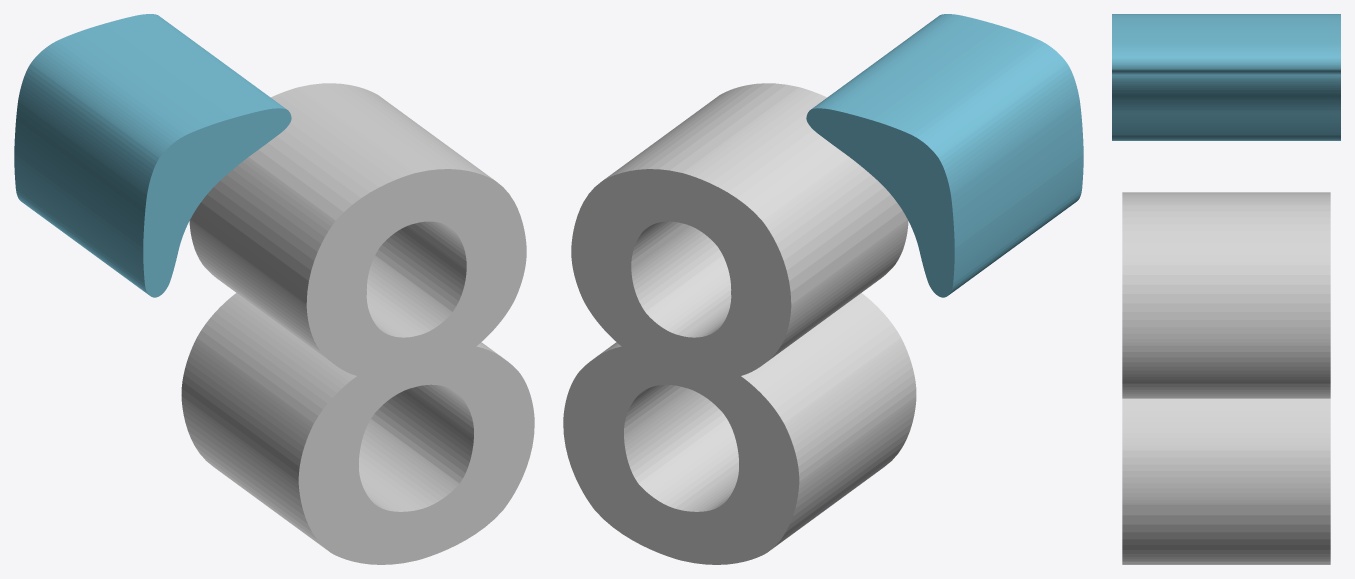
The picture shows the model from 3 angles, left to right: view 1: azimuth 30°, elevation 25°; view 2: azimuth 150°, elevation 25°; view 3: azimuth 270°, elevation 25°; orthographic projection. The views are drawn at different scales.
Parts seen in each view (by area): view 1: U+FE835_layer00_obj00, U+FE835_layer01_obj00; view 2: U+FE835_layer00_obj00, U+FE835_layer01_obj00; view 3: U+FE835_layer00_obj00, U+FE835_layer01_obj00.
Boxes of the visible parts, left/top/right/bottom form: U+FE835_layer00_obj00: left=181, top=83, right=534, bottom=564; U+FE835_layer01_obj00: left=14, top=14, right=291, bottom=297; U+FE835_layer00_obj00: left=563, top=83, right=916, bottom=564; U+FE835_layer01_obj00: left=806, top=14, right=1083, bottom=297; U+FE835_layer00_obj00: left=1122, top=192, right=1330, bottom=564; U+FE835_layer01_obj00: left=1112, top=14, right=1340, bottom=140.
Bounding box in the file's own units: 0.1958 × 0.2323 × 0.11.
